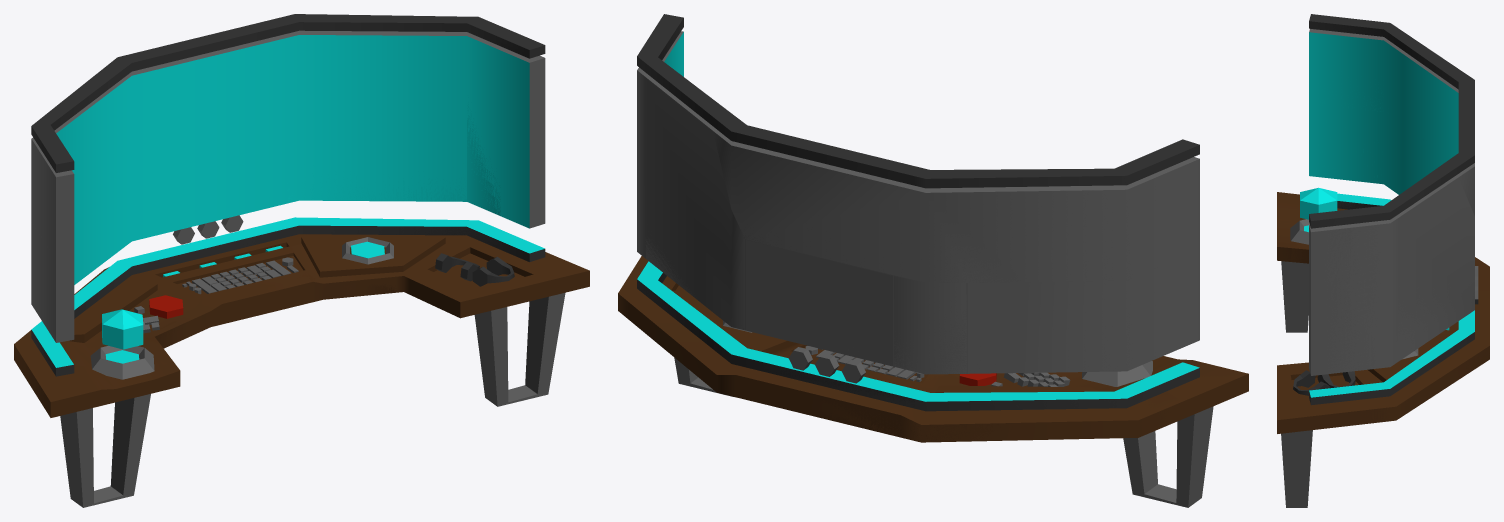
Rendered from computer_desk.fbx.
3 renders of one model, left to right at view 1: azimuth 30°, elevation 25°; view 2: azimuth 150°, elevation 25°; view 3: azimuth 270°, elevation 25°, orthographic. The views are drawn at different scales.
Visible parts, largest first — view 1: PR_PCset.064, PR_PCset.067, PR_PCset.065, PR_PCset.066, PR_PCset.067_cell.003, PR_PCset.027, PR_PCset.066_cell.002, PR_PCset.067_cell.004, PR_PCset.064_cell.004, PR_PCset.028, PR_PCset.064_cell.001, PR_PCset.067_cell.005 (+18 smaller); view 2: PR_PCset.064_cell.007, PR_PCset.067, PR_PCset.064_cell.006, PR_PCset.064_cell.001, PR_PCset.064_cell.004, PR_PCset.064_cell.005, PR_PCset.066, PR_PCset.064, PR_PCset.064_cell, PR_PCset.065, PR_PCset.027, PR_PCset.065_cell.002 (+13 smaller); view 3: PR_PCset.064, PR_PCset.064_cell.004, PR_PCset.067, PR_PCset.065, PR_PCset.064_cell.002, PR_PCset.064_cell.003, PR_PCset.066, PR_PCset.028, PR_PCset.066_cell.002, PR_PCset.067_cell.003, PR_PCset.027, PR_PCset.067_cell (+15 smaller).
Part boxes in pixels (<box>): PR_PCset.064: <box>32,30,545,342</box>; PR_PCset.067: <box>14,234,586,417</box>; PR_PCset.065: <box>31,14,545,172</box>; PR_PCset.066: <box>31,217,545,376</box>; PR_PCset.067_cell.003: <box>399,242,582,318</box>; PR_PCset.027: <box>60,394,150,506</box>; PR_PCset.066_cell.002: <box>141,218,545,272</box>; PR_PCset.067_cell.004: <box>30,363,180,417</box>; PR_PCset.064_cell.004: <box>288,35,503,215</box>; PR_PCset.028: <box>474,292,565,406</box>; PR_PCset.064_cell.001: <box>31,108,87,259</box>; PR_PCset.067_cell.005: <box>238,247,367,299</box>; PR_PCset.064_cell.007: <box>713,131,1022,282</box>; PR_PCset.067: <box>618,286,1248,442</box>; PR_PCset.064_cell.006: <box>745,240,1022,373</box>; PR_PCset.064_cell.001: <box>1022,157,1199,281</box>; PR_PCset.064_cell.004: <box>645,50,744,330</box>; PR_PCset.064_cell.005: <box>1022,250,1199,372</box>; PR_PCset.066: <box>637,271,1199,411</box>; PR_PCset.064: <box>637,32,1199,374</box>; PR_PCset.064_cell: <box>894,276,966,374</box>; PR_PCset.065: <box>644,18,1199,185</box>; PR_PCset.027: <box>1123,406,1213,507</box>; PR_PCset.065_cell.002: <box>915,154,1163,188</box>; PR_PCset.064: <box>1309,32,1474,375</box>; PR_PCset.064_cell.004: <box>1349,177,1474,347</box>; PR_PCset.067: <box>1277,214,1489,433</box>; PR_PCset.065: <box>1309,14,1474,228</box>; PR_PCset.064_cell.002: <box>1350,218,1397,371</box>; PR_PCset.064_cell.003: <box>1309,224,1350,375</box>; PR_PCset.066: <box>1311,193,1474,404</box>; PR_PCset.028: <box>1281,430,1312,507</box>; PR_PCset.066_cell.002: <box>1309,310,1474,404</box>; PR_PCset.067_cell.003: <box>1277,362,1383,416</box>; PR_PCset.027: <box>1281,261,1308,332</box>; PR_PCset.067_cell: <box>1277,367,1454,423</box>.
Size of the model in its own units: 927 by 552 by 365.
